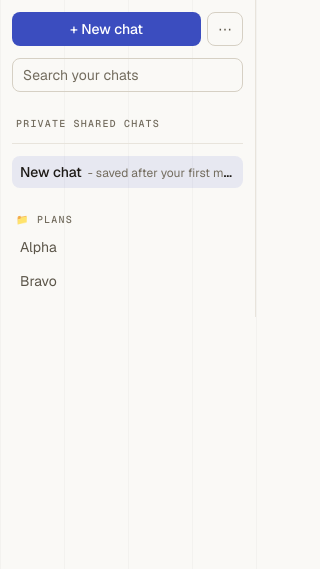
Scenario: deletion consequences › distinguishes deleted chats from chats kept by selected folders
The width and height of the screenshot is (320, 569).
Expected: the button "Alpha" is shown, [12,231,243,263]
Click the button named "Chat list options".
click(225, 29)  # box [207,12,243,46]
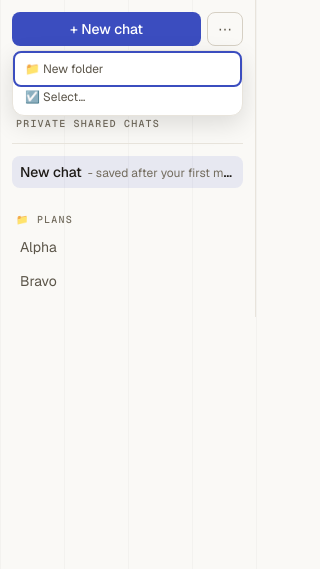
Click the button "☑️ Select…".
click(128, 97)  # box [17,83,238,111]
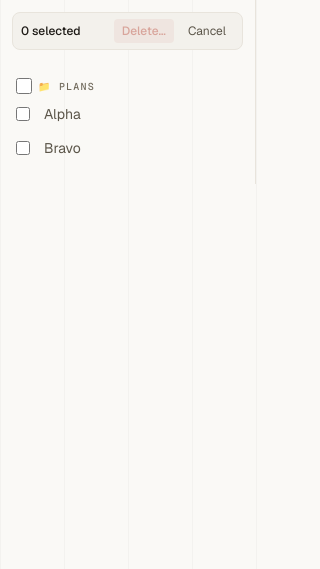
Click the checkbox named "Select Alpha".
click(23, 114)  # box [16,107,30,121]
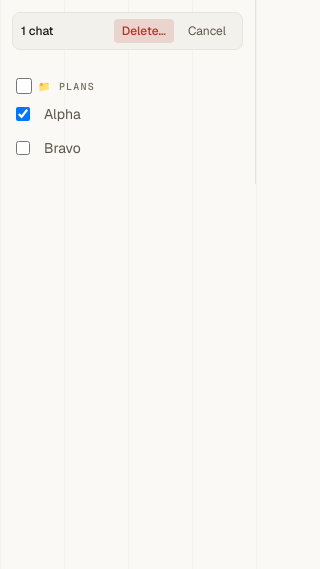
Click the checkbox named "Select folder Plans".
click(24, 86)  # box [16,78,32,94]
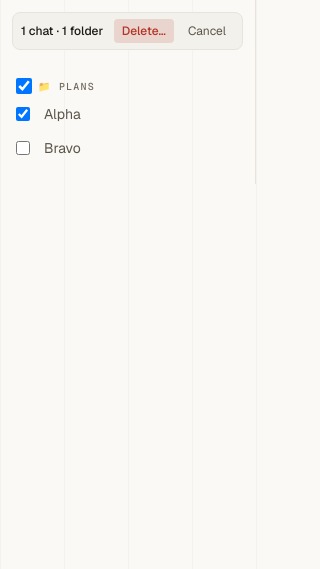
Click the button "Delete…".
click(144, 31)  # box [114,19,174,43]
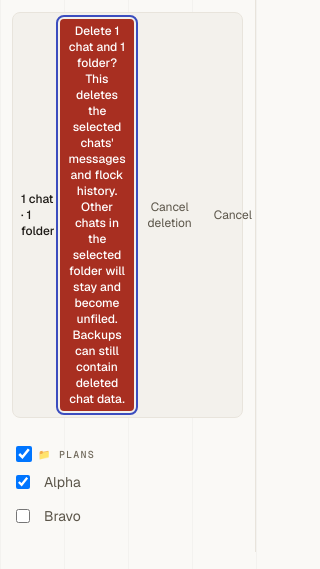
Result: the 1st button is shown at [60,19,134,411]
